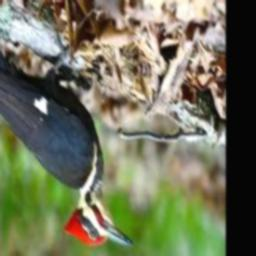Woodpecker: (0, 0, 133, 247)
